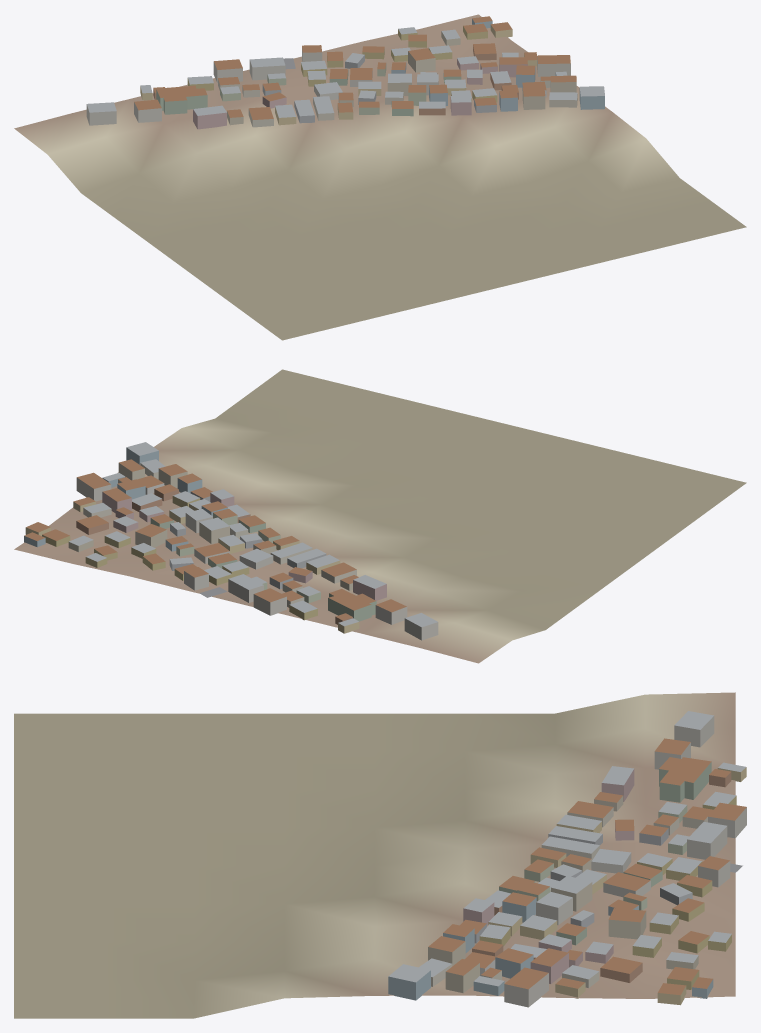
3 views of the same model, one above another, from view 1: azimuth 30°, elevation 25°; view 2: azimuth 150°, elevation 25°; view 3: azimuth 270°, elevation 25° (orthographic). The views are drawn at different scales.
Parts seen in each view (by area): view 1: Lo; view 2: Lo; view 3: Lo.
Part boxes in pixels (x1,y1,x2,y2): Lo: (14, 14, 746, 340); Lo: (14, 369, 746, 663); Lo: (14, 692, 746, 1018).
Size of the model in its own units: 264 by 16.44 by 260.
